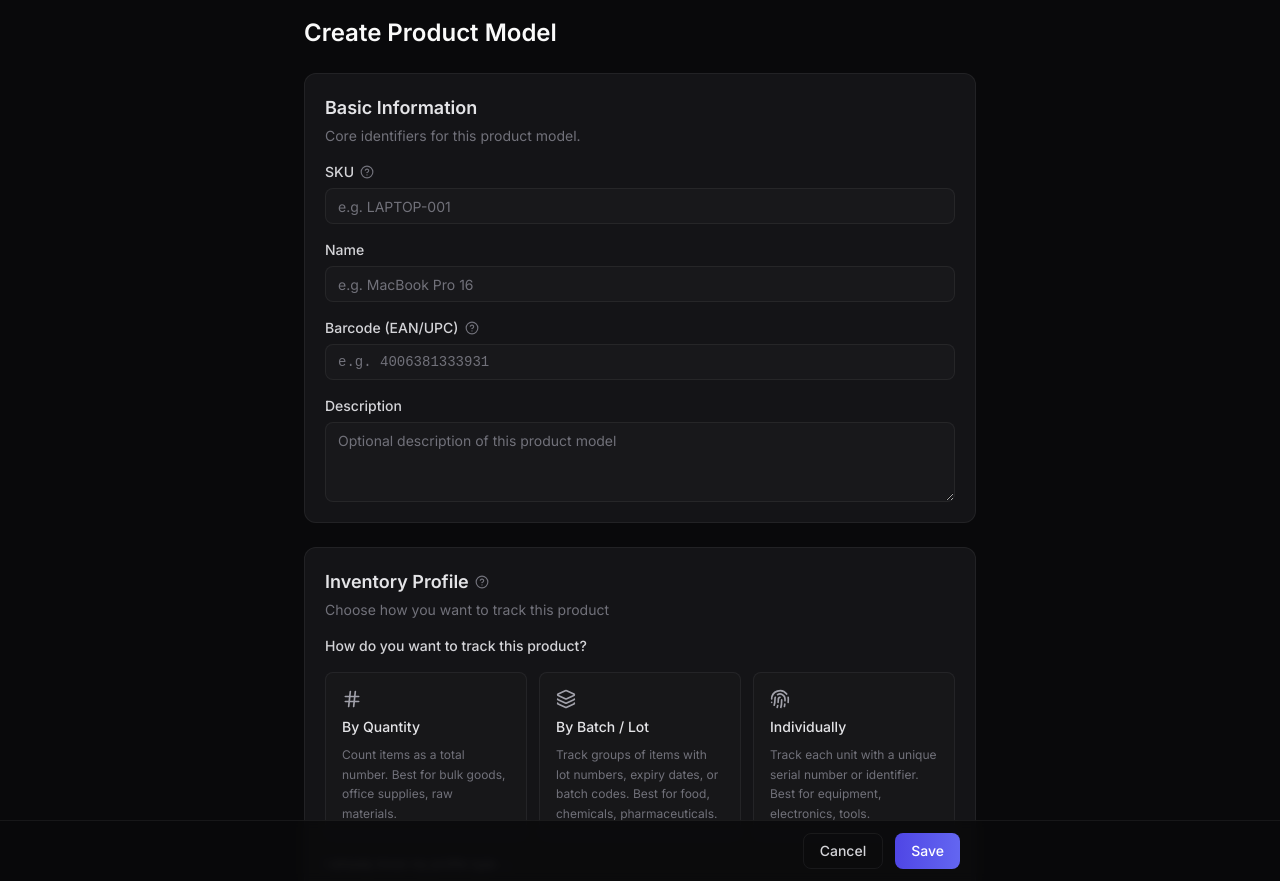
Test case: ProductModelCreate – Tracking Preset section › renders Dimensional Configuration section when DIMENSIONAL profile is picked
choose category "By Quantity"
Click the text "By Quantity": (381, 727) [342, 717, 420, 737]
(page scrolled)
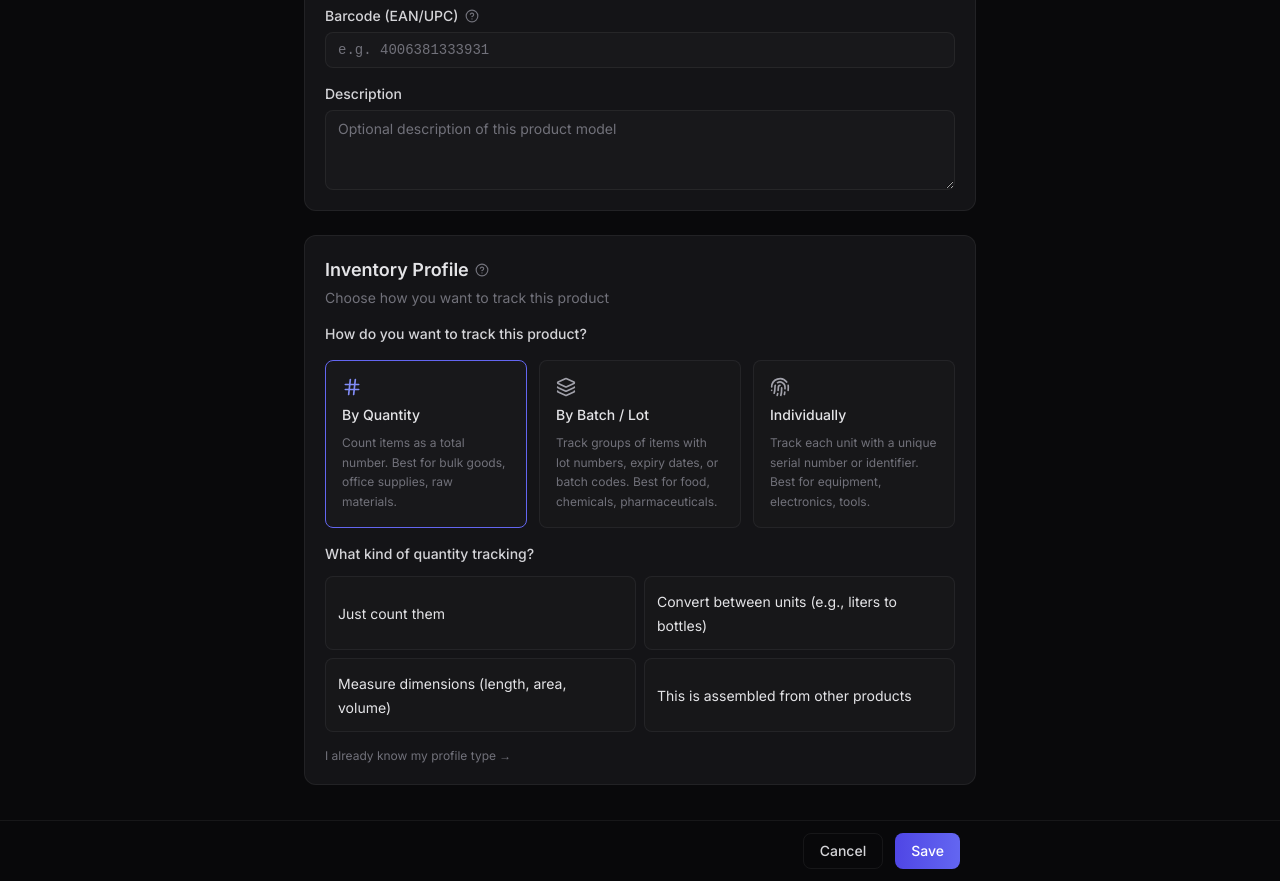
choose "Measure dimensions" → DIMENSIONAL
Click the button "Measure dimensions (length, area, volume)": (480, 695) [325, 658, 636, 732]
(page scrolled)
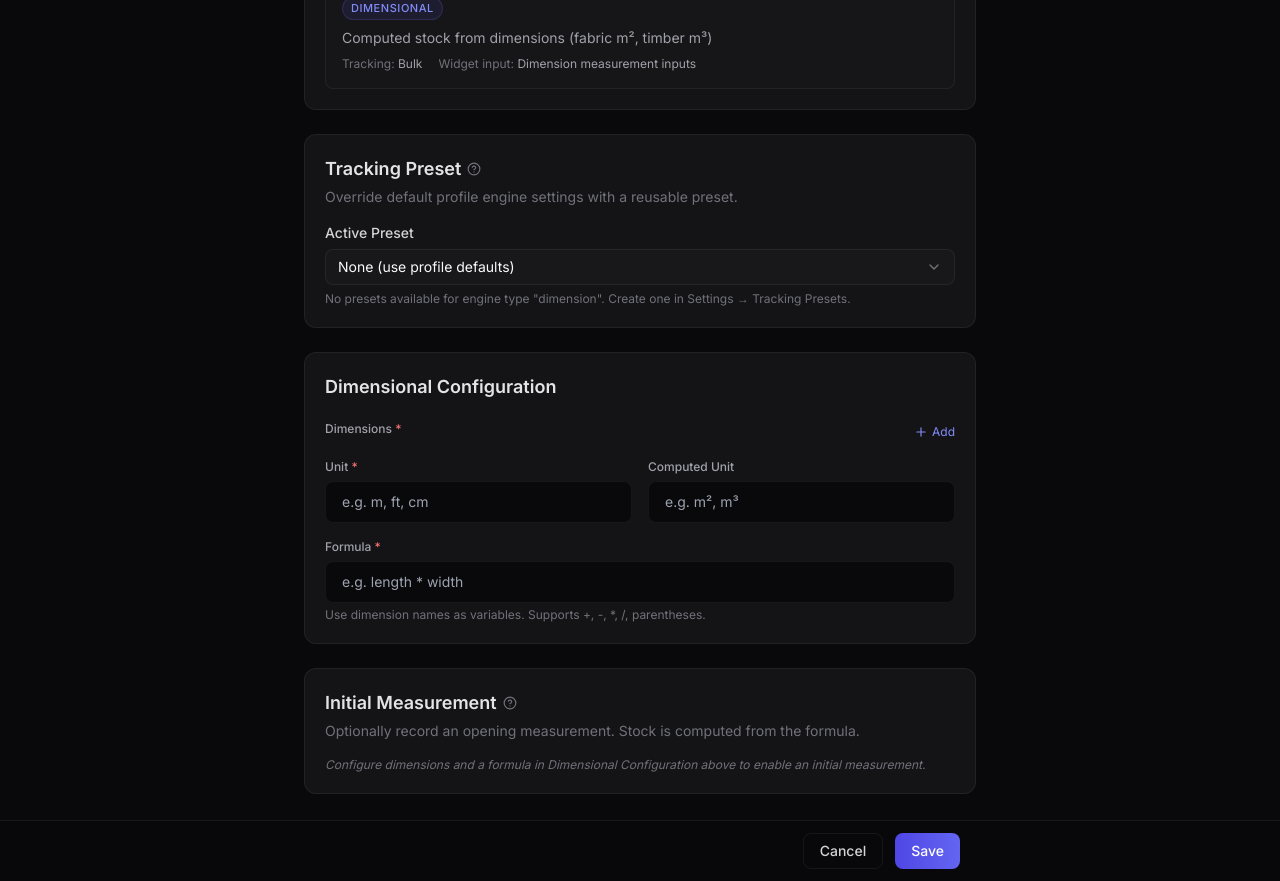
Expected: the heading "Dimensional Configuration" is shown, [325, 372, 556, 400]
Expected: the text "Dimensions *" is shown, [325, 420, 402, 436]
Expected: the text "Formula *" is shown, [325, 538, 381, 554]
